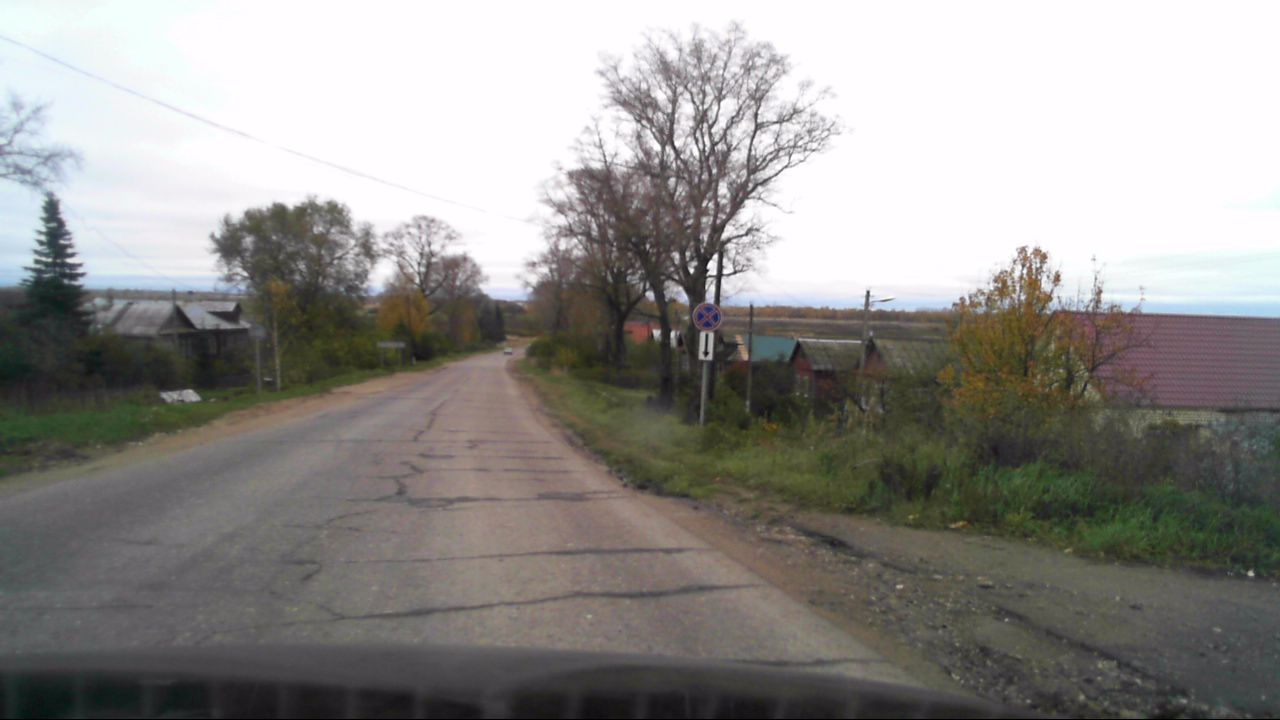No Parking: (691, 302, 722, 332)
